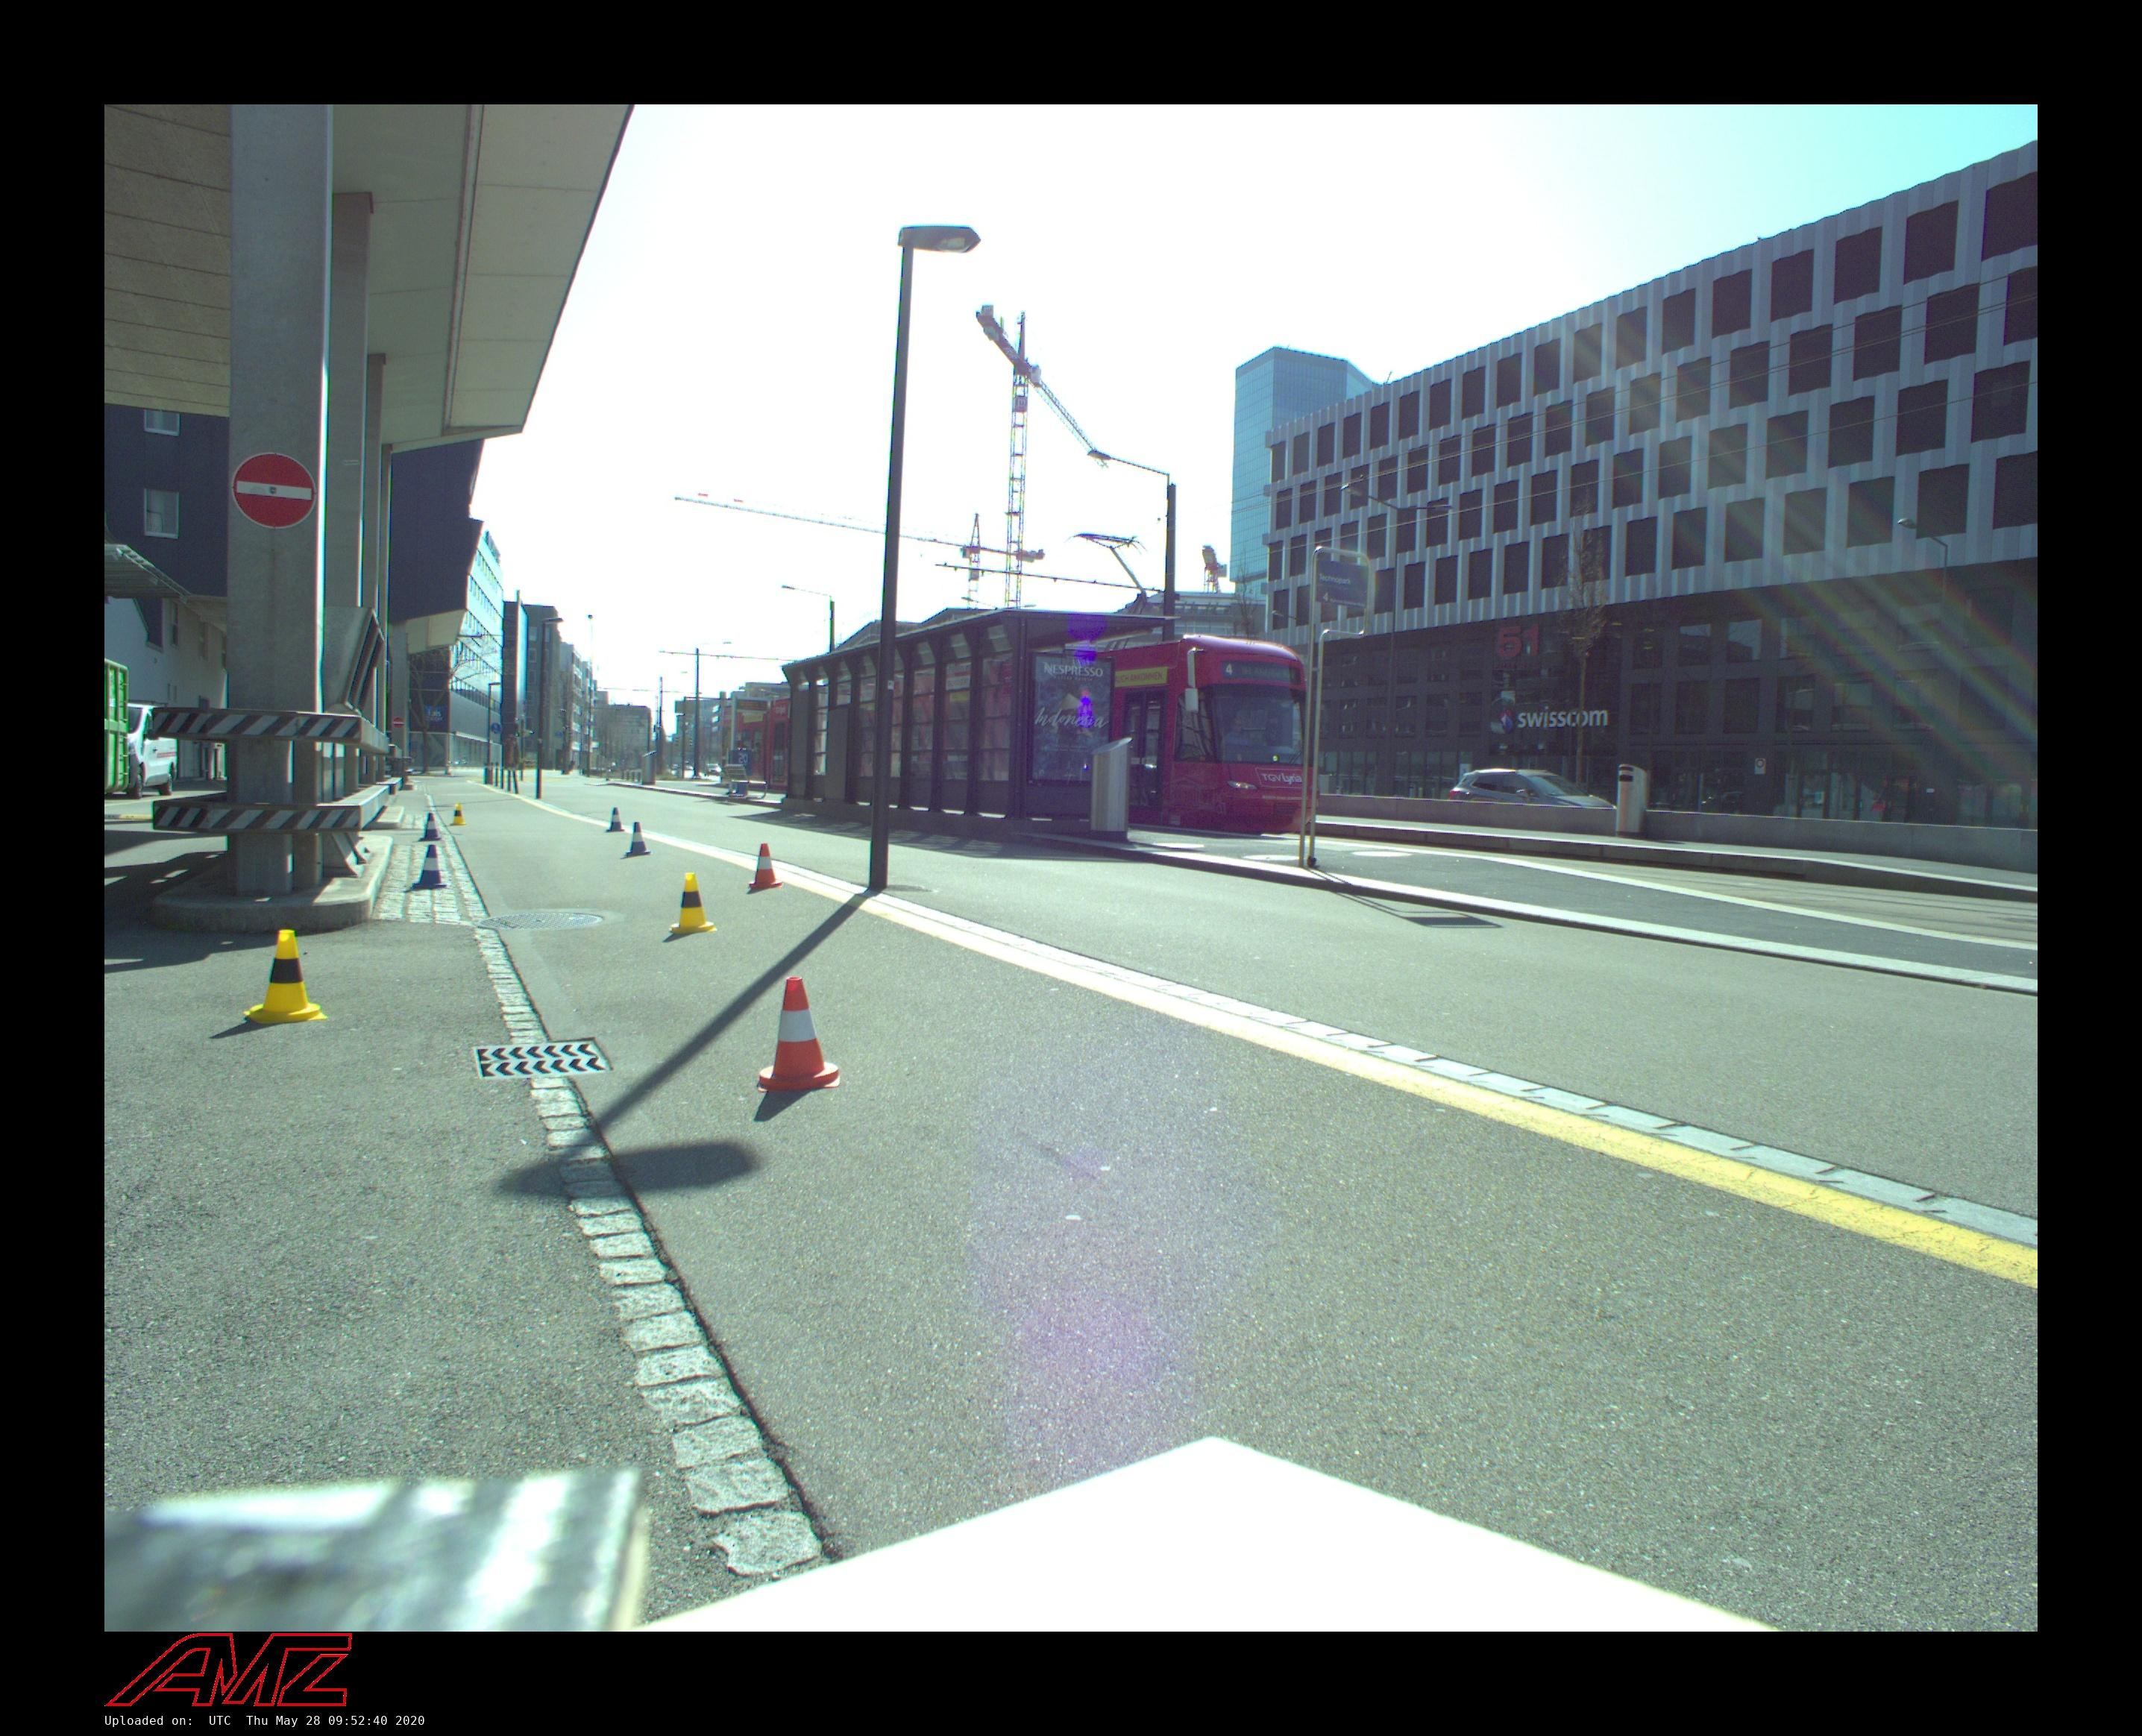blue_cone: (412, 844, 447, 890), (626, 822, 651, 855), (420, 813, 444, 841), (606, 807, 625, 832)
orange_cone: (759, 976, 841, 1089), (750, 842, 782, 888)
yellow_cone: (242, 930, 327, 1024), (671, 872, 714, 933), (450, 803, 467, 826)
